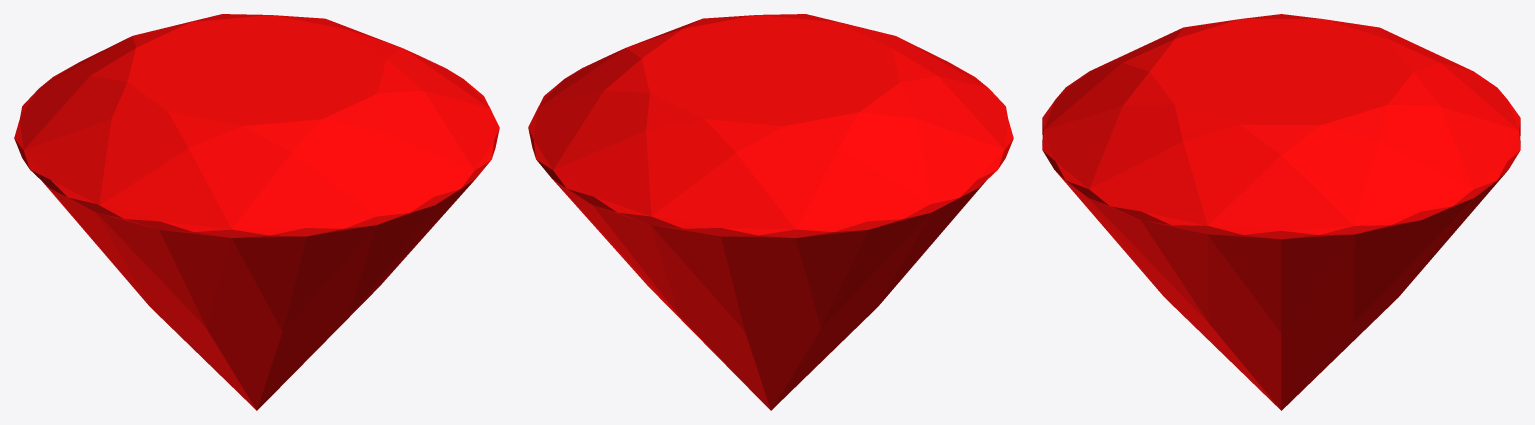
Rendered from RedChaosEmerald.obj.
3 renders of one model, left to right at view 1: azimuth 30°, elevation 25°; view 2: azimuth 150°, elevation 25°; view 3: azimuth 270°, elevation 25°, orthographic.
Visible parts, largest first — view 1: emerald_4; view 2: emerald_4; view 3: emerald_4.
Boxes of the visible parts, x1,y1,x2,y2 form: emerald_4: [14, 14, 499, 410]; emerald_4: [528, 14, 1013, 410]; emerald_4: [1042, 14, 1520, 410].
Size of the model in its own units: 0.0262 by 0.0205 by 0.0262.
